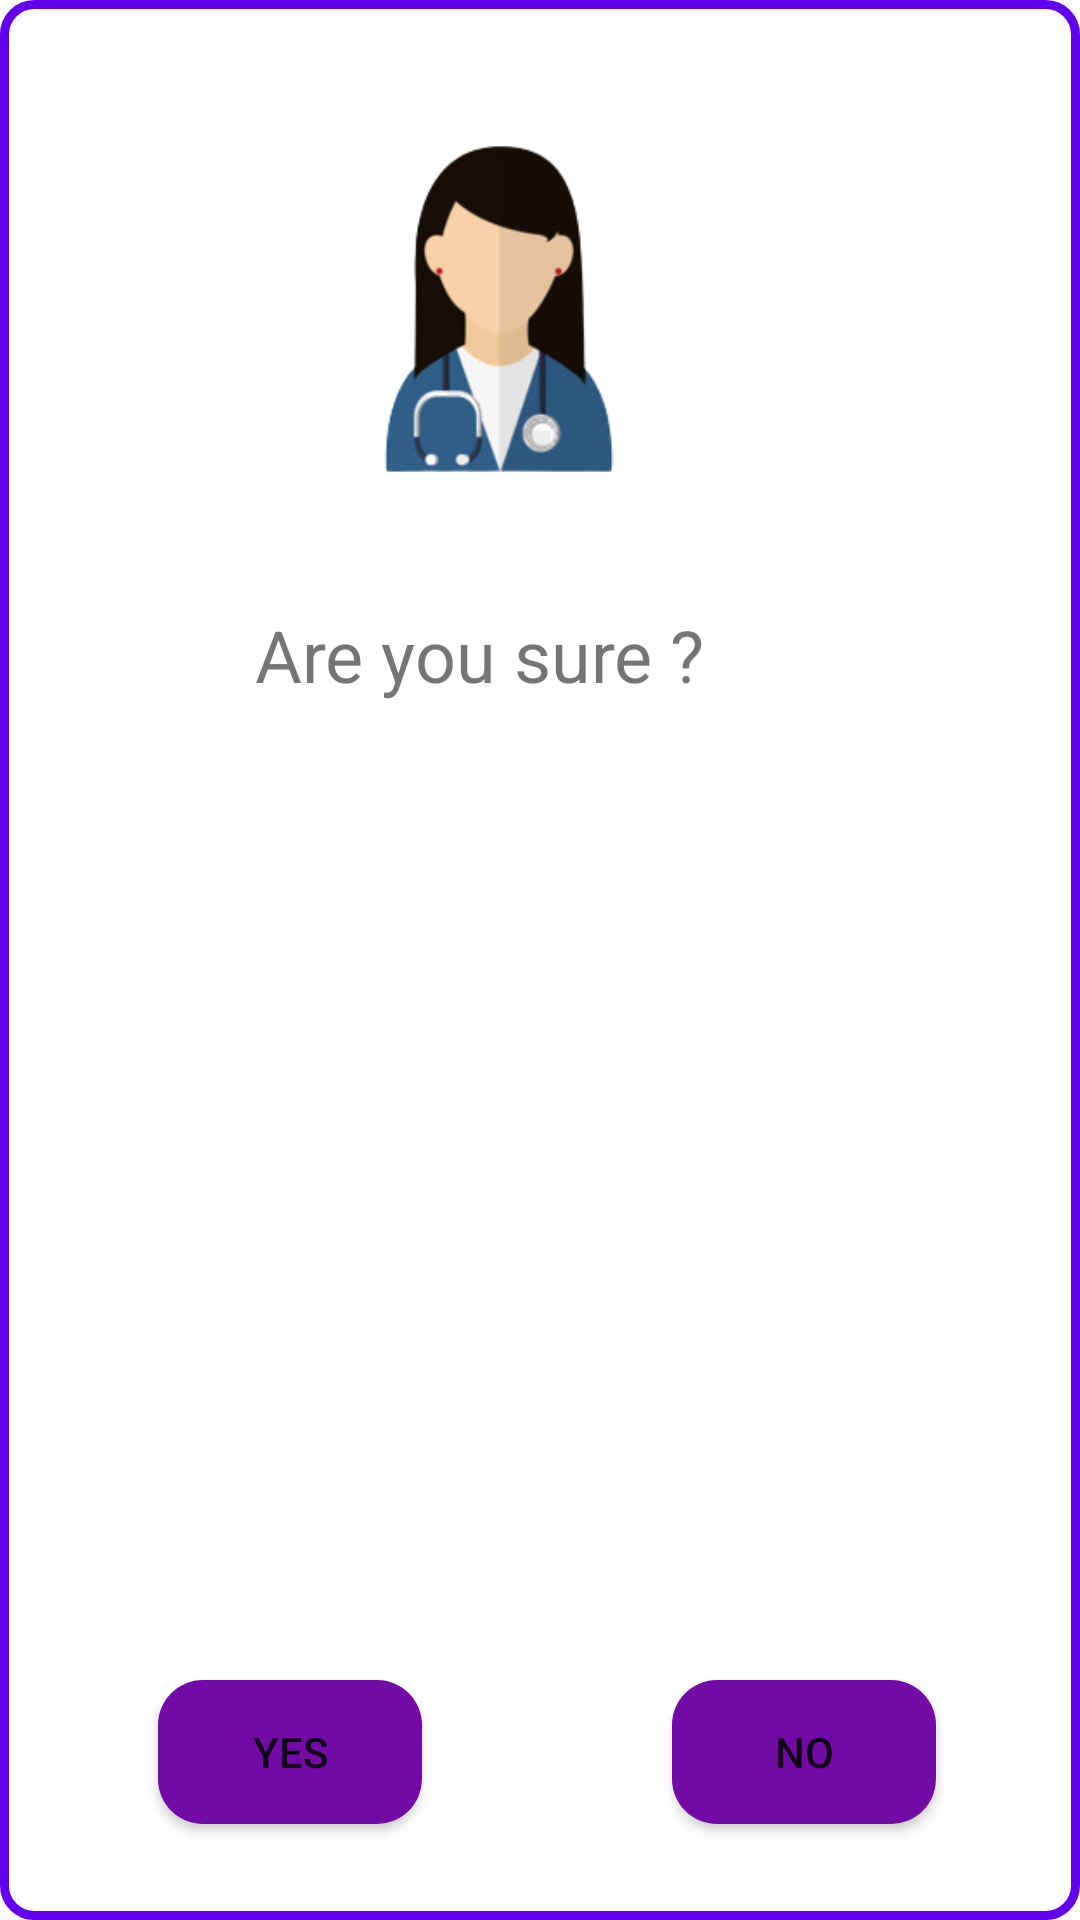

Point at icon controls on the screen. Image size 1080*1920, points as (x,y).
doctorpopupimg: (499,309)
